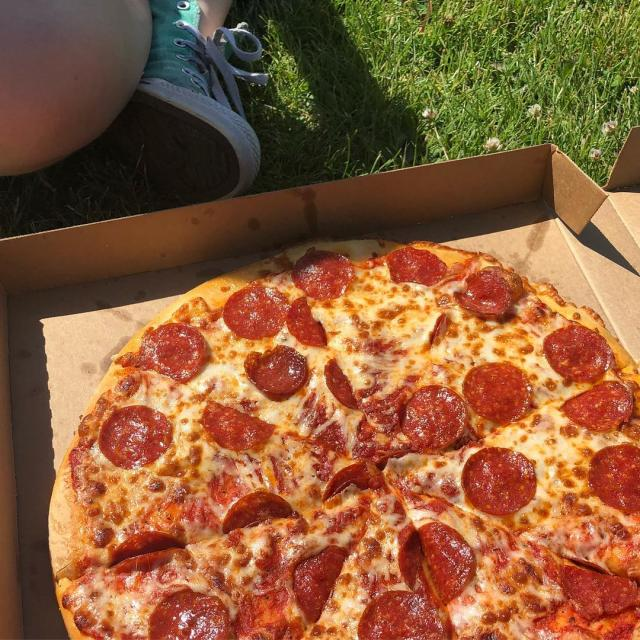pepperoni: (386, 521, 480, 609), (542, 549, 640, 618), (457, 443, 541, 521), (386, 380, 470, 456), (279, 541, 351, 624), (457, 358, 534, 428), (539, 314, 616, 383), (322, 456, 403, 520), (199, 394, 279, 458), (99, 403, 175, 467), (217, 278, 290, 344), (550, 377, 636, 433), (144, 587, 232, 640), (356, 586, 442, 640), (139, 320, 208, 386), (584, 440, 640, 516), (220, 487, 296, 541), (240, 345, 310, 402), (111, 528, 190, 578), (293, 243, 356, 301), (315, 344, 367, 412), (454, 268, 519, 322), (378, 240, 451, 288), (285, 292, 335, 351)
pizza: (42, 234, 640, 640)
